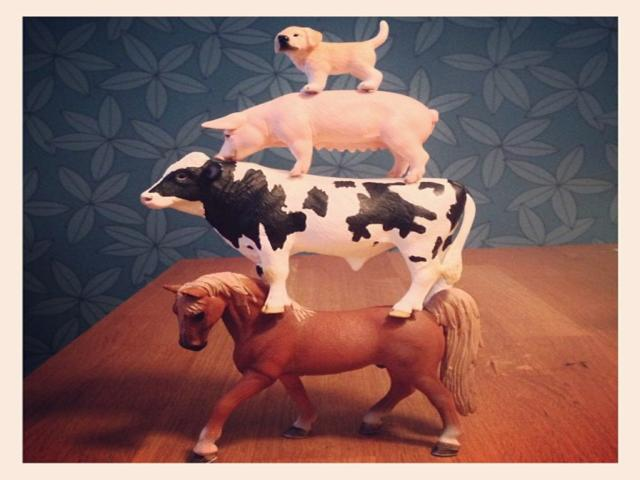Dog: (275, 21, 387, 94)
